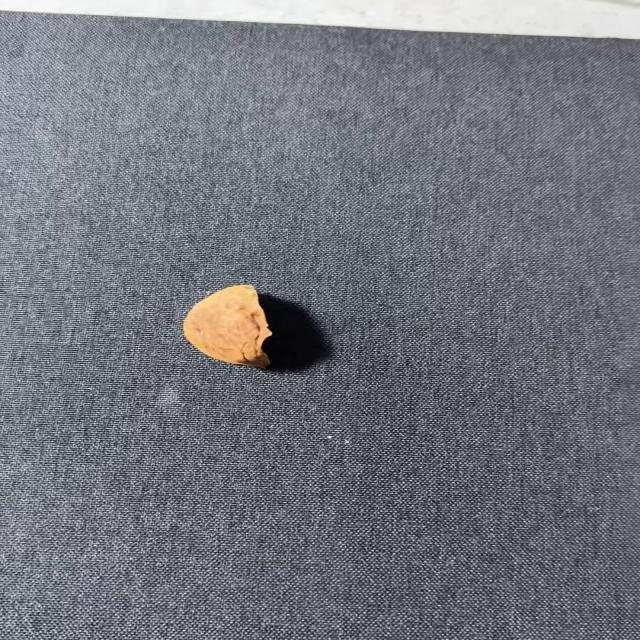nuts-bad0.25: (183, 285, 271, 368)
